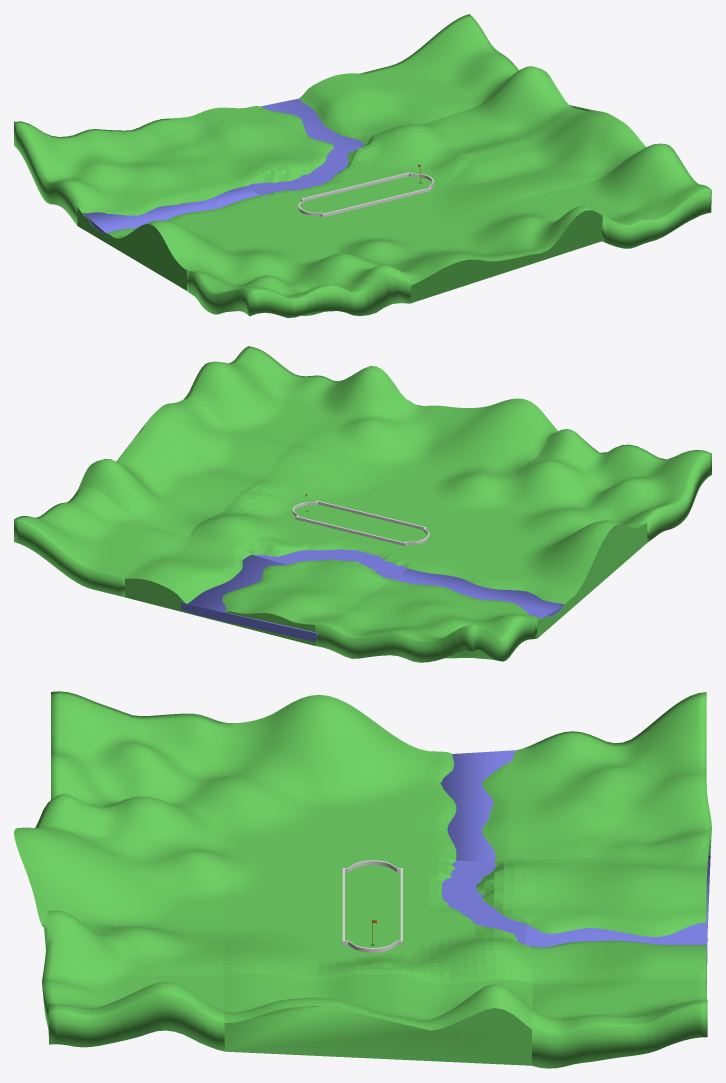
File: canchaextension.fbx
3 renders of one model, top to bottom at view 1: azimuth 30°, elevation 25°; view 2: azimuth 150°, elevation 25°; view 3: azimuth 270°, elevation 25°, orthographic. The views are drawn at different scales.
Visible parts, largest first — view 1: Cube, Cube.003; view 2: Cube, Cube.003; view 3: Cube, Cube.003.
Boxes of the visible parts, <box> form: Cube: <box>14,14,711,317</box>; Cube.003: <box>298,172,433,217</box>; Cube: <box>14,346,711,662</box>; Cube.003: <box>292,500,429,545</box>; Cube: <box>14,691,711,1068</box>; Cube.003: <box>342,860,402,952</box>.
Bounding box in the file's own units: 8554 × 1252 × 7934.
